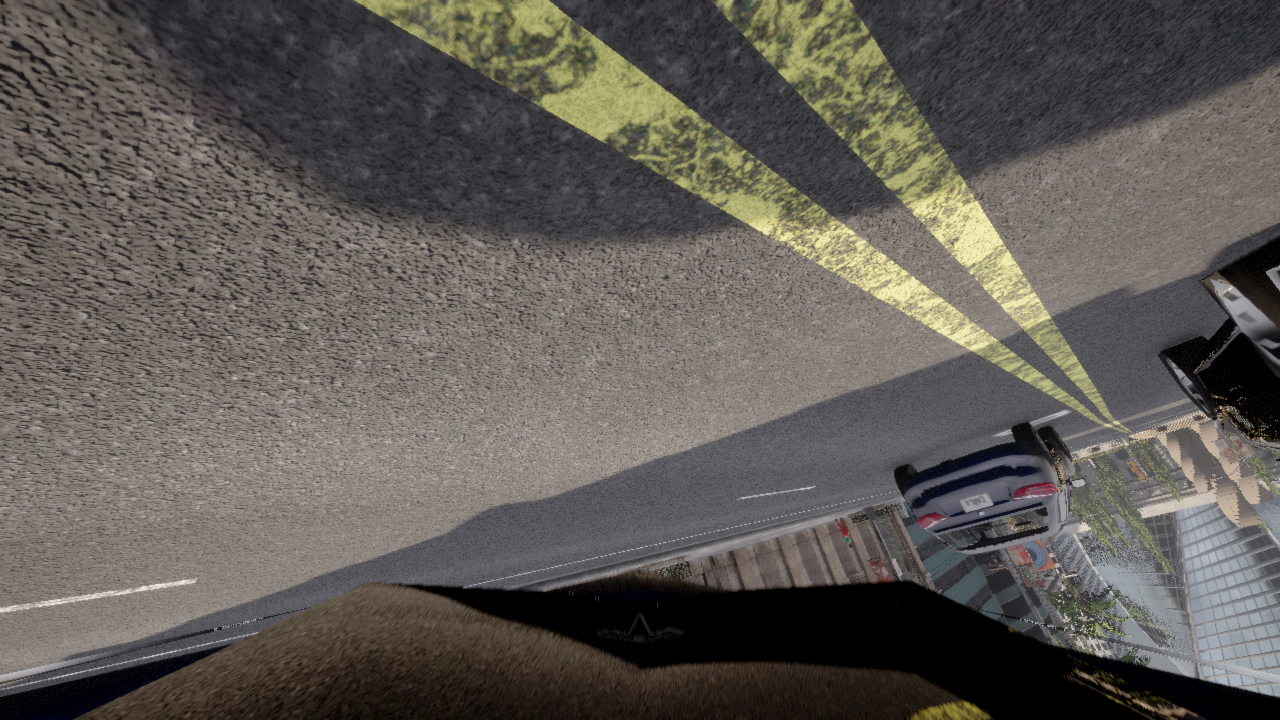cyclist: (0, 569, 1279, 719), (1158, 236, 1279, 460), (894, 422, 1085, 553)
pedestrian: (835, 518, 852, 547)
